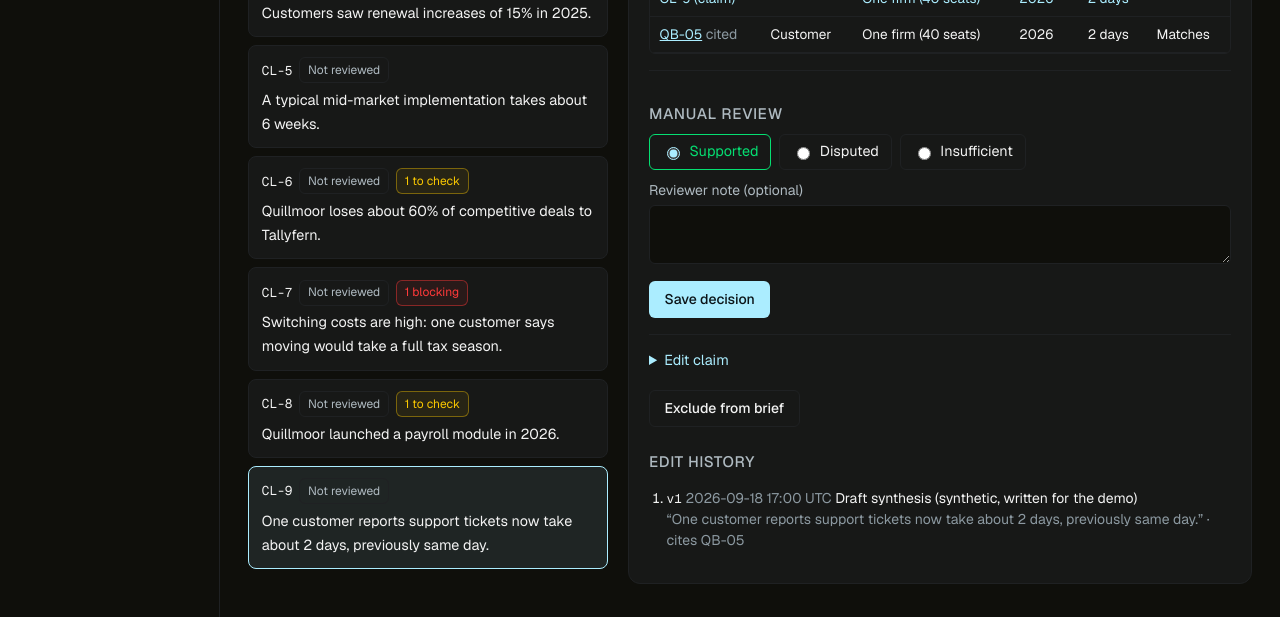
Scenario: app UI › renders XSS payloads as text, not markup
The image size is (1280, 617).
(page scrolled)
Step 1. Click the heading "Edit claim" → click(697, 360), box [664, 351, 729, 369]
(page scrolled)
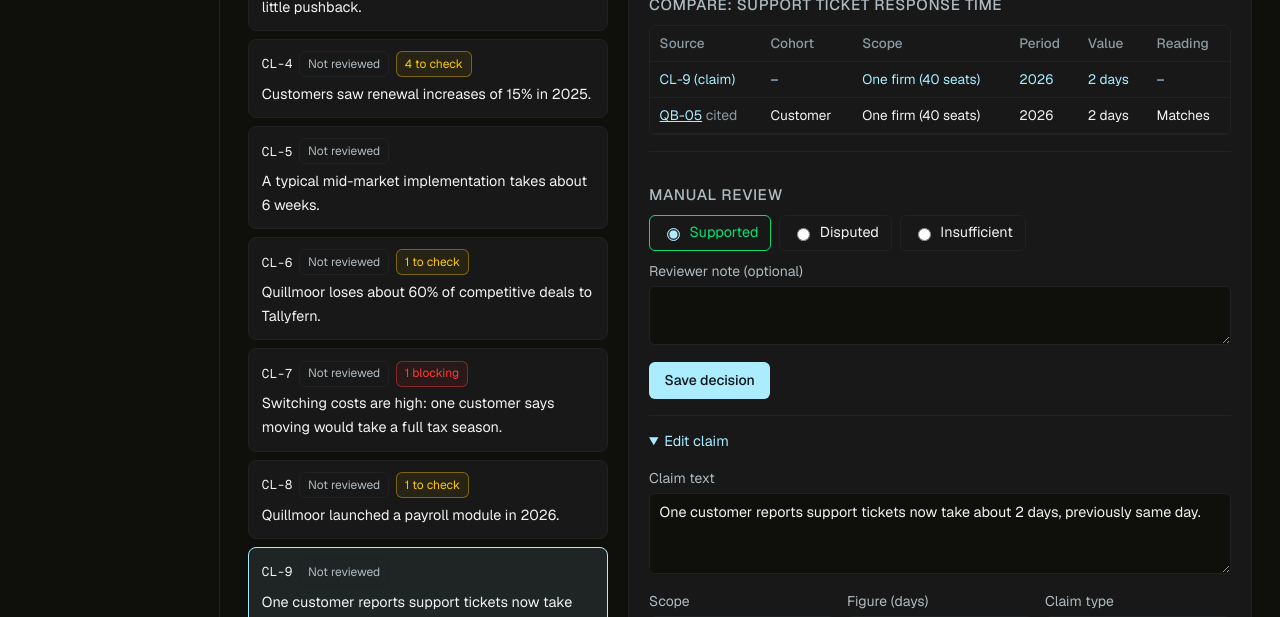
Step 2. Replace the text in the text box labelled "Claim text" with "<img src=x onerror=alert(1)>" → (940, 534), box [649, 493, 1231, 574]
(page scrolled)
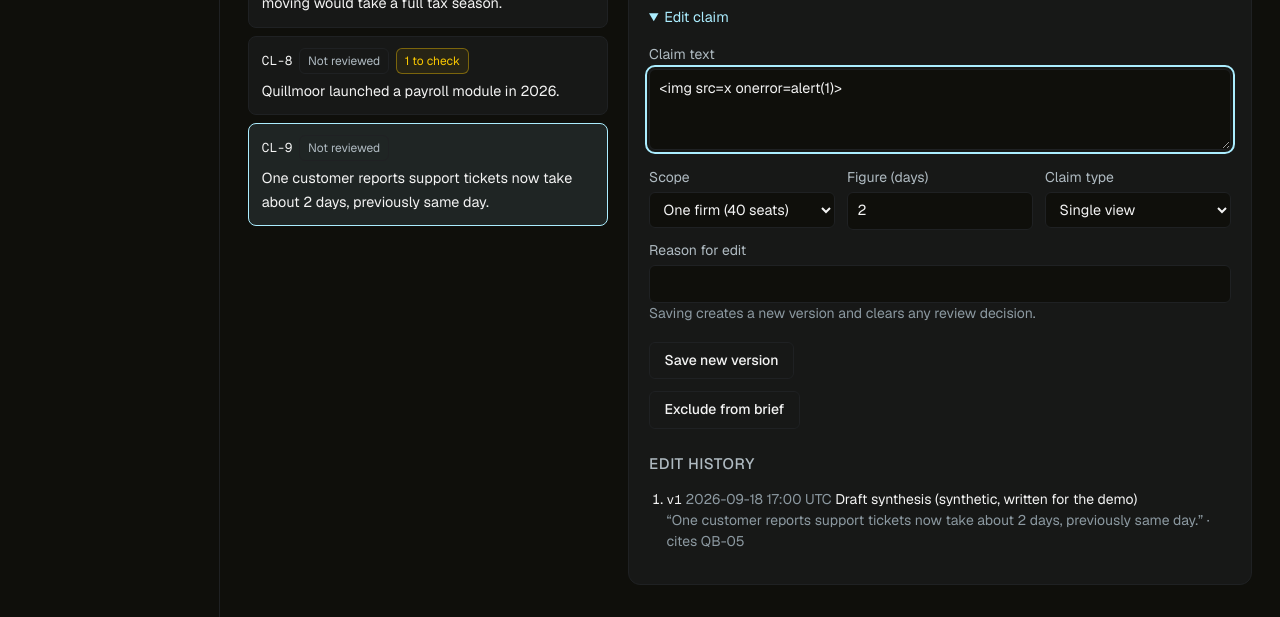
Step 3. Click the button "Save new version" → click(721, 361), box [649, 342, 794, 379]
(page scrolled)
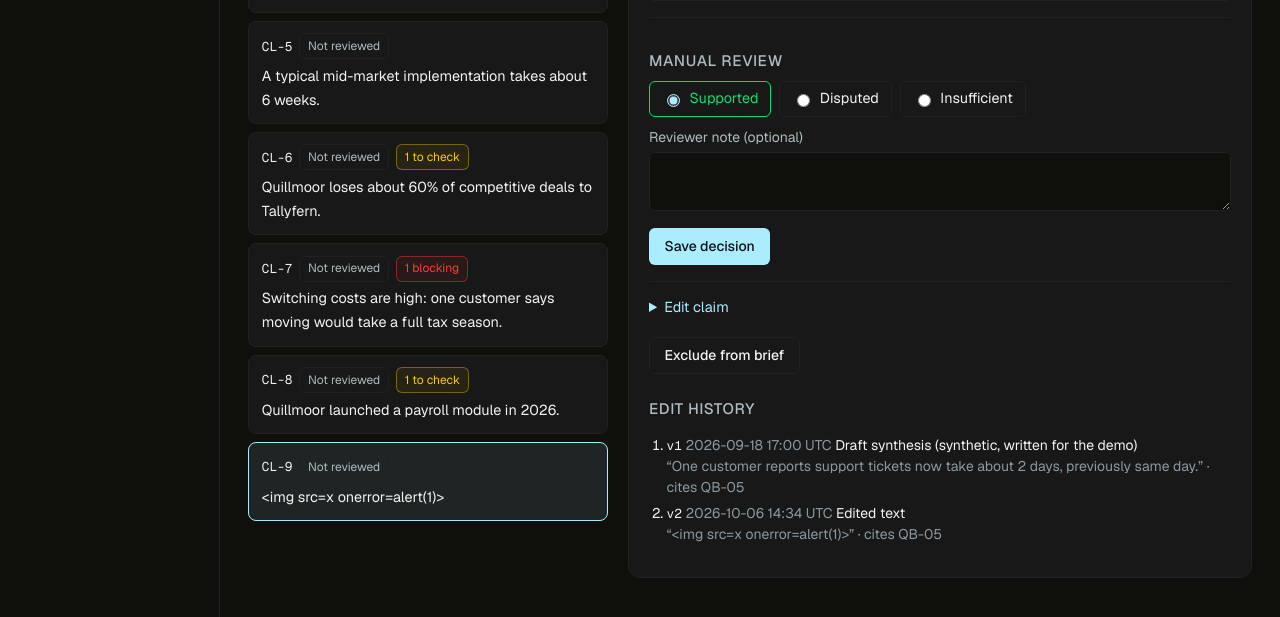
Now the text "<img src=x onerror=alert(1)>" is shown, box [262, 488, 444, 506]
